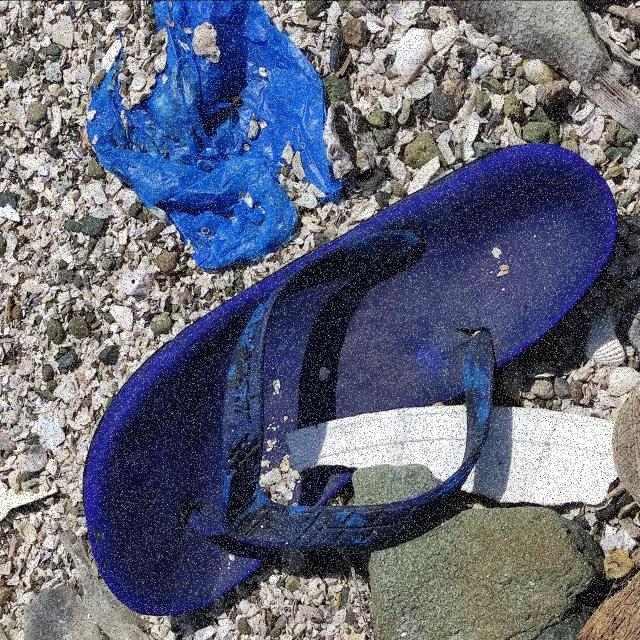plastic_waste: (87, 1, 347, 273)
rubber_waste: (82, 140, 622, 619)
